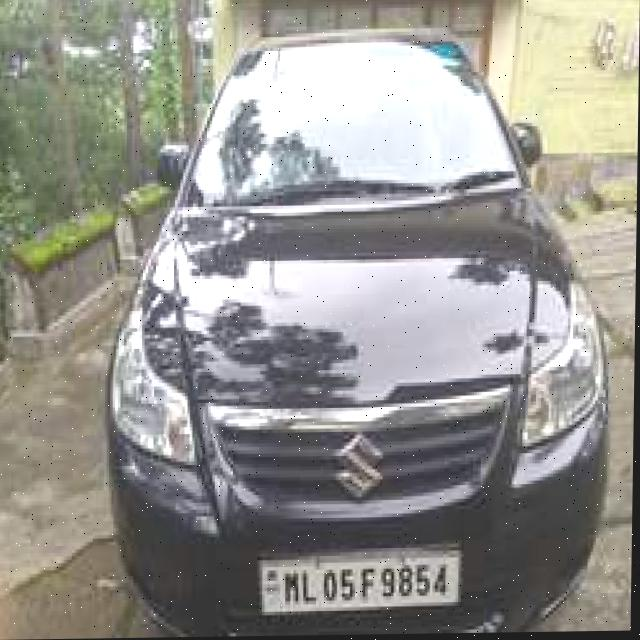plate: (259, 551, 464, 616)
